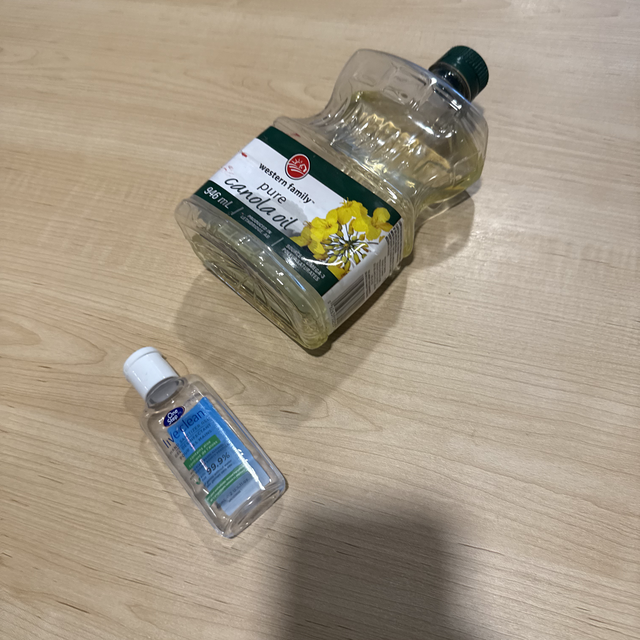Canola Oil: (166, 42, 558, 353), (109, 329, 330, 565)
